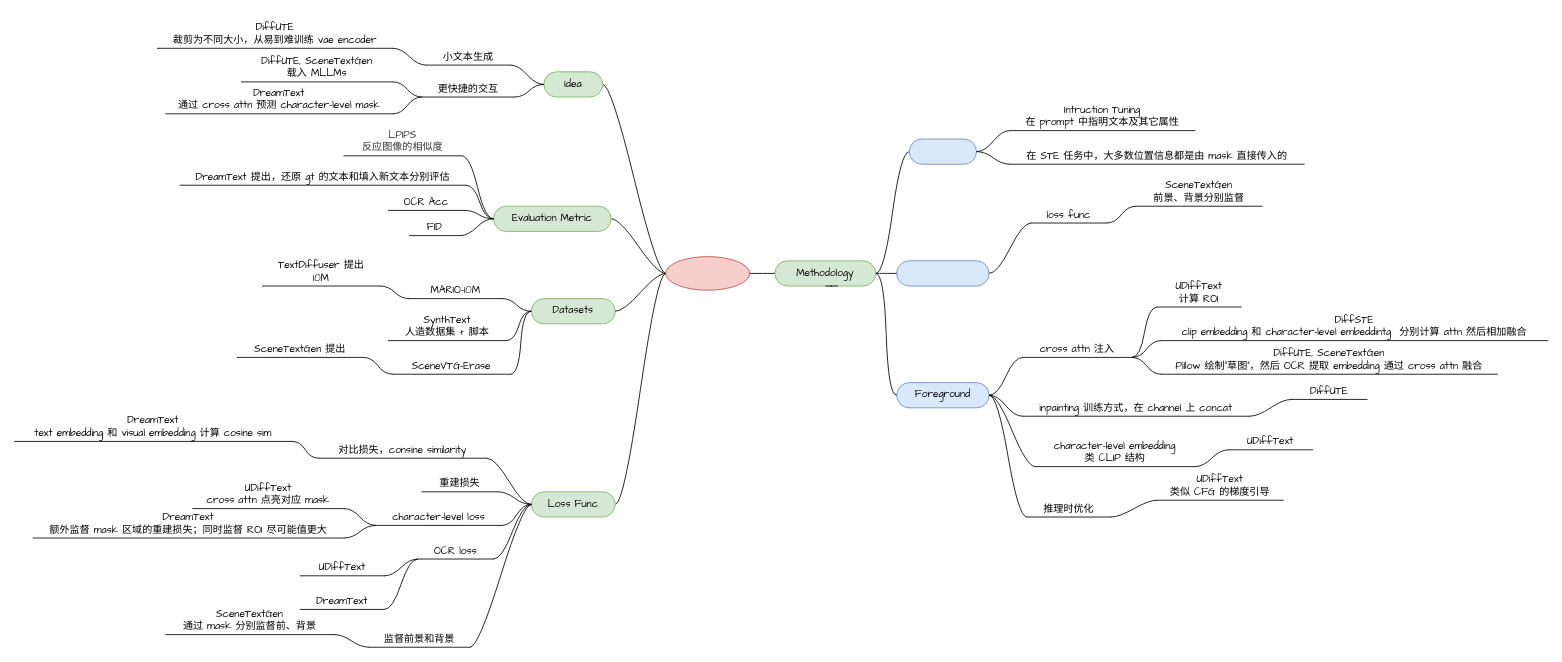
Some shapes in this 1562 by 662 pixel diagram are drawn without their labels. Here are the shapes that lost their labels. From the top down, the box of each, then its label:
(908, 138, 976, 164): Input
(665, 256, 750, 290): STE
(896, 260, 989, 286): Background
